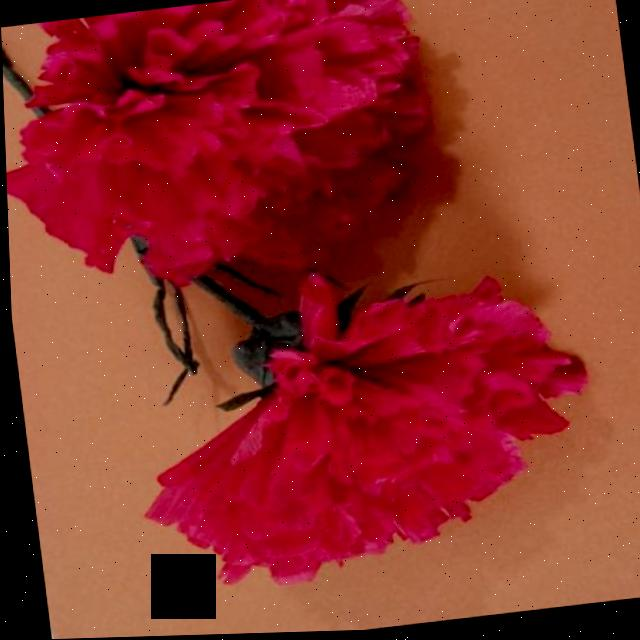carnation: (119, 269, 603, 600), (0, 0, 442, 281)
